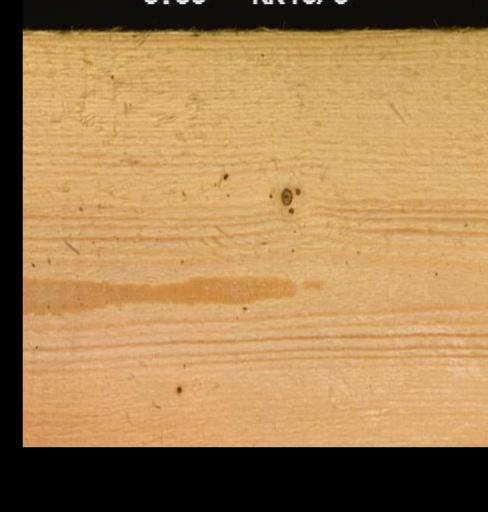dry_knot: (277, 185, 292, 205)
small_knot: (172, 383, 182, 395), (283, 207, 297, 215), (219, 170, 227, 182)
